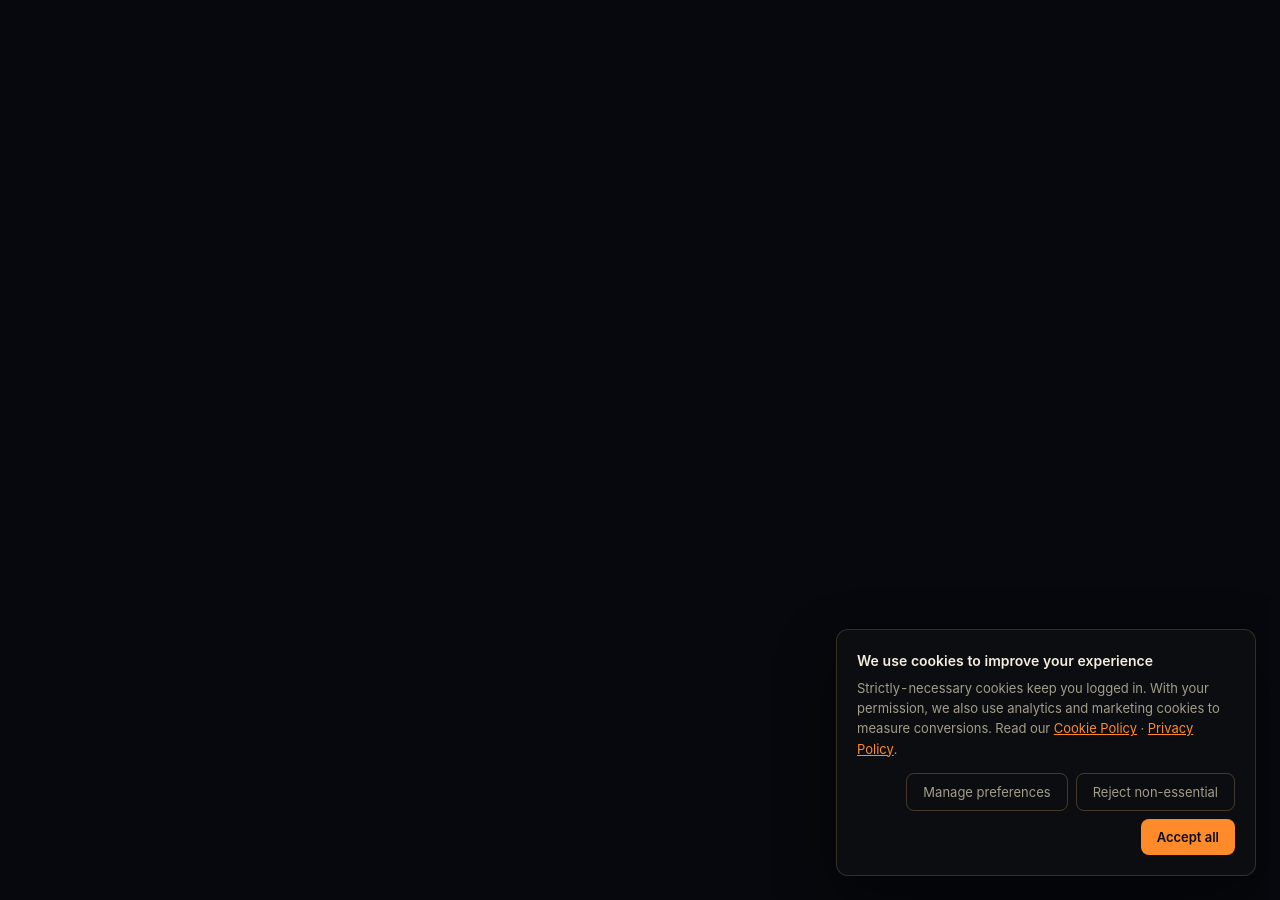
Test: UI-fix C9 · cookie banner vs. login transition › clicking Accept all still persists the real choice to localStorage
This screenshot has width=1280, height=900.
Click the button with test id "cookie-accept-btn": (1188, 837) [1141, 819, 1235, 855]
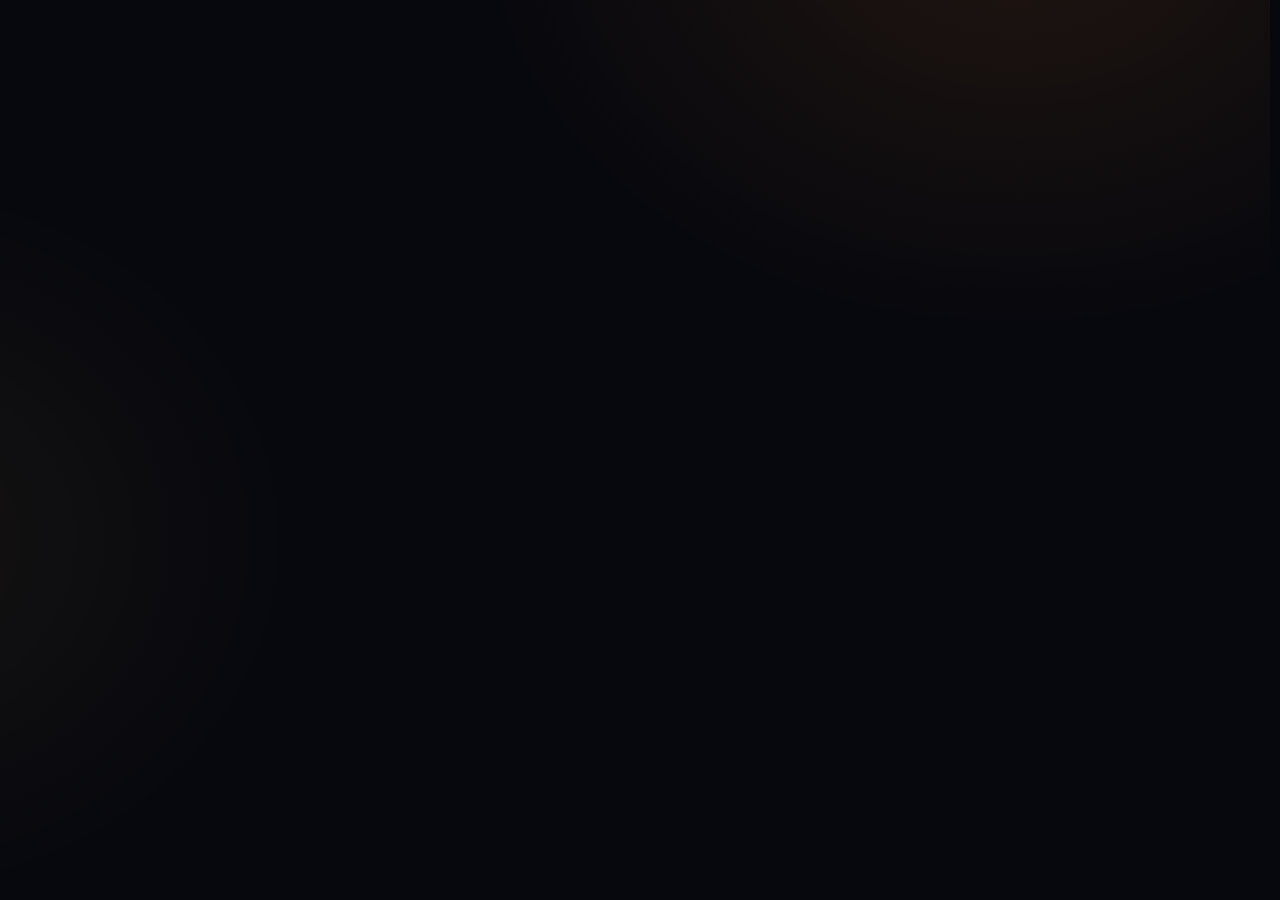
Expected: the dialog with test id "cookie-consent-banner" is gone
